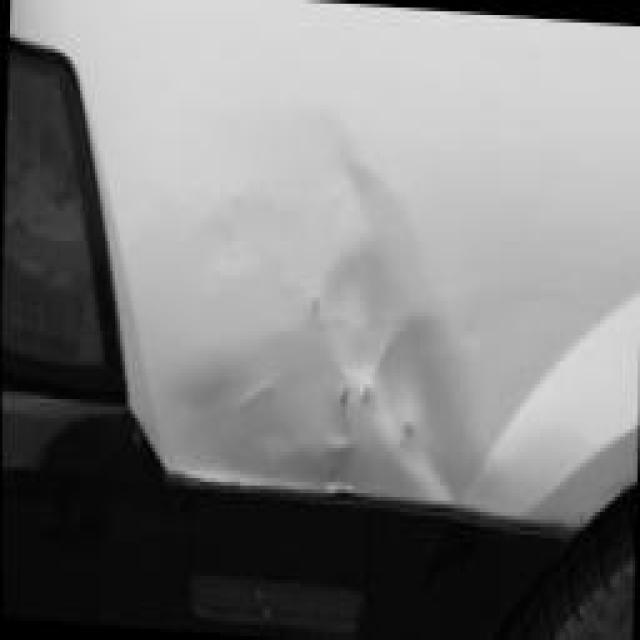Fender: (90, 72, 612, 557)
